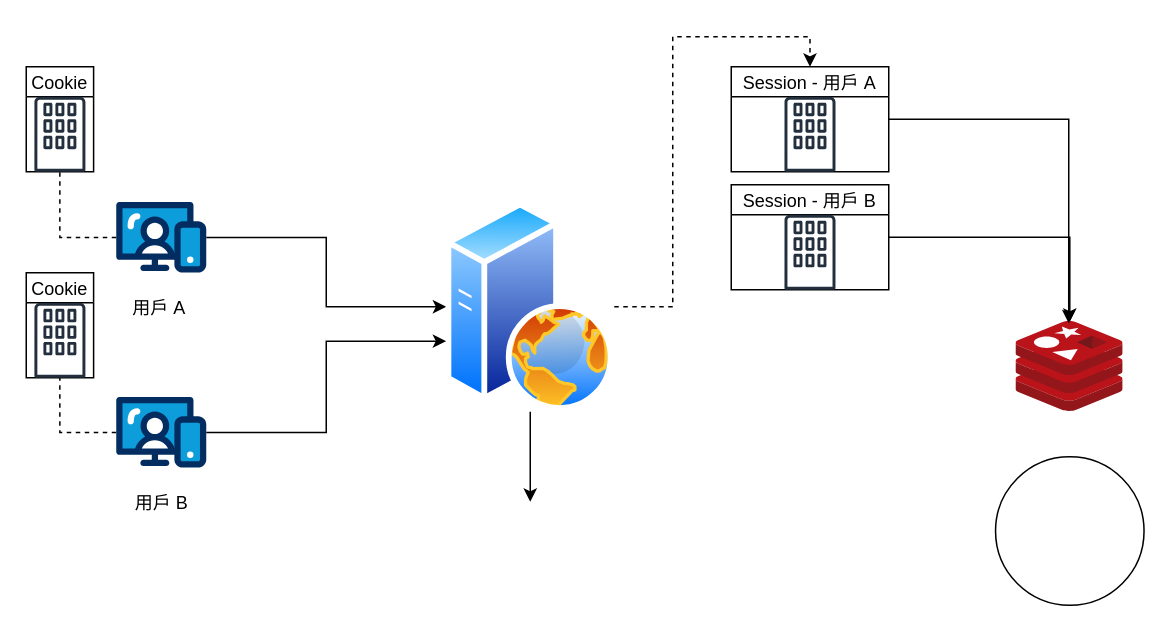
The diagram is 1172 pixels wide and 632 high, and some of its shapes have lost their labels. Each missing label, with the centre of its shape:
"Redis" goes at pixel 1069 366.
"伺服器" goes at pixel 530 306.
"寫進Redis" goes at pixel 1069 530.
